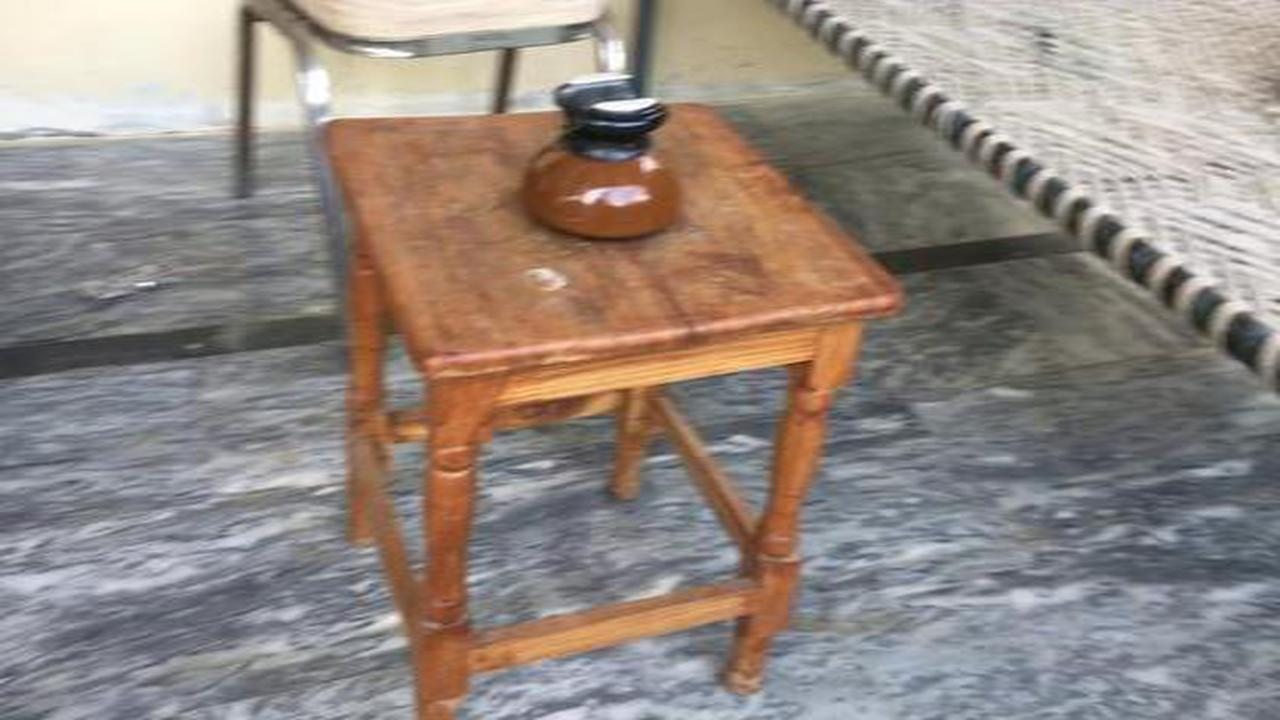insulator_pin: (496, 57, 705, 255)
